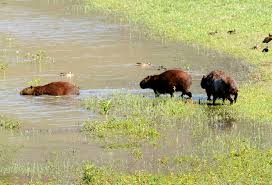capivara: (140, 69, 195, 99), (17, 79, 81, 101), (202, 70, 241, 106)
